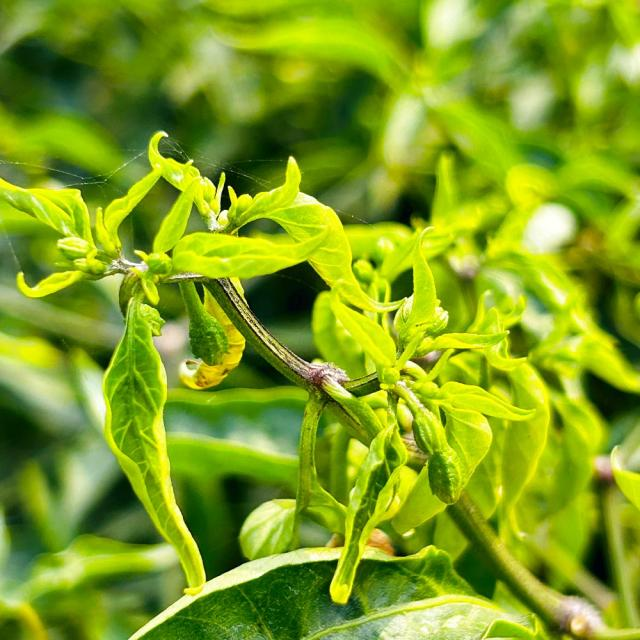Chilli_Leaf_Curl: (1, 128, 542, 612), (1, 130, 361, 308), (127, 542, 538, 639), (100, 292, 207, 595), (327, 420, 408, 605)
